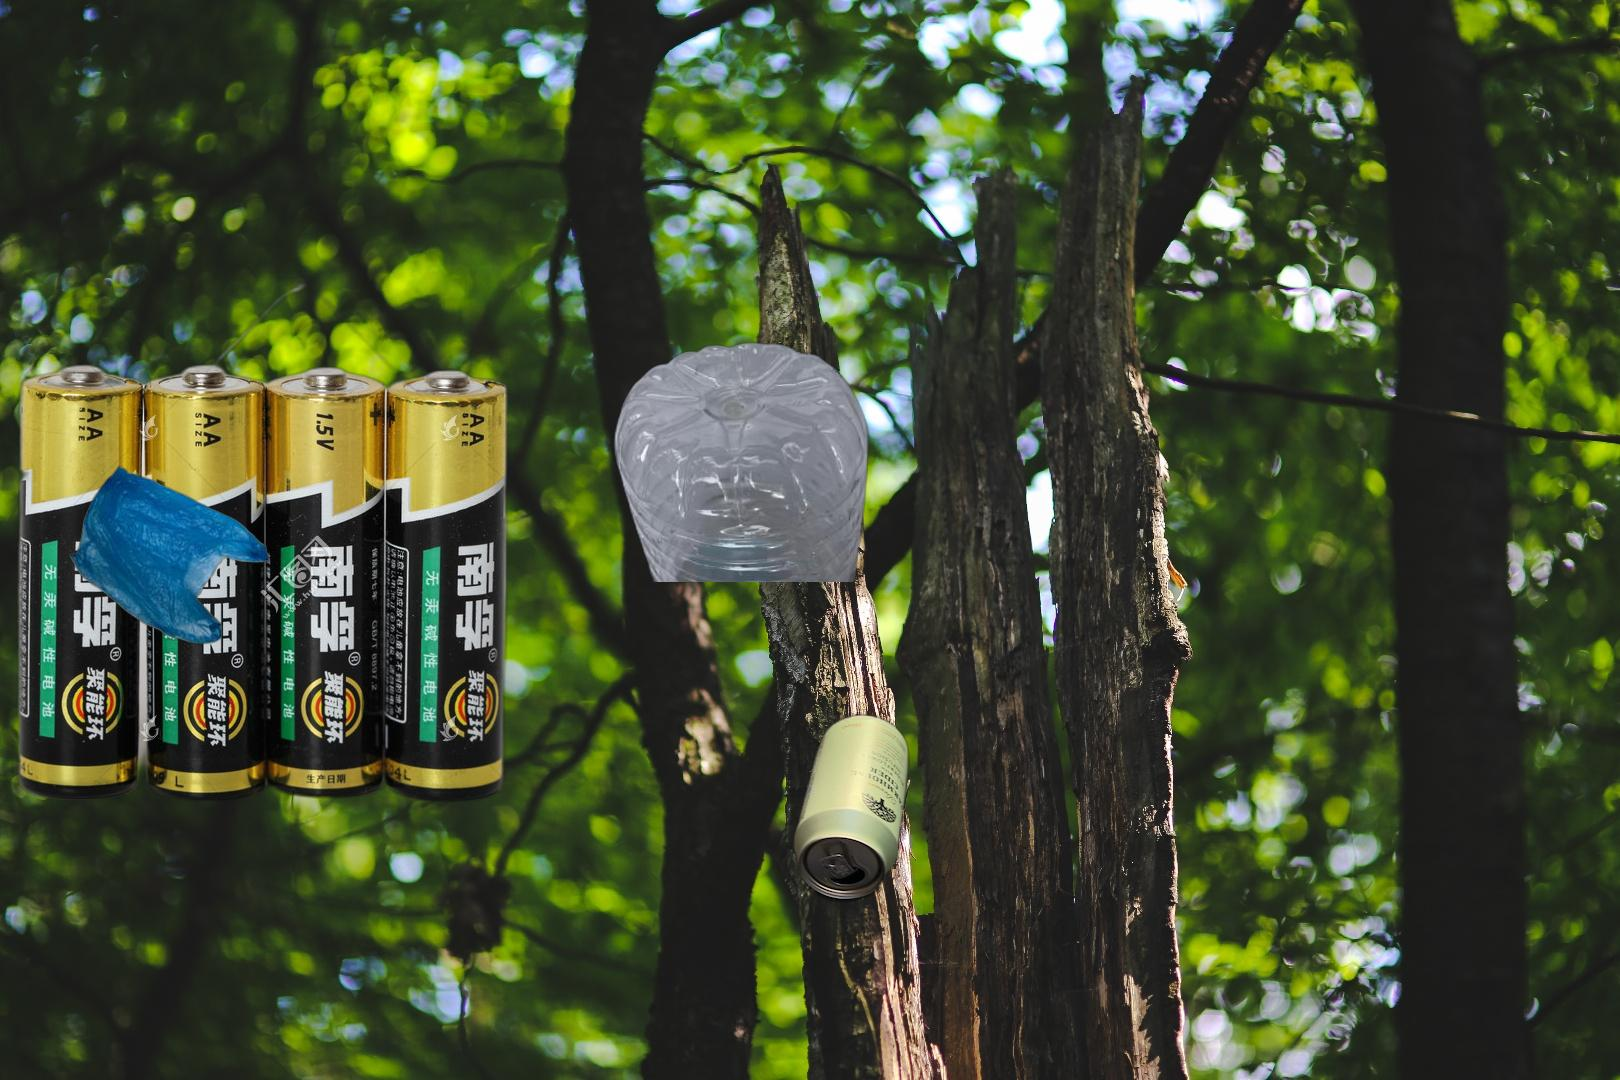battery: (11, 277, 515, 806)
metal-cans: (535, 615, 912, 906)
plastic-bag: (67, 463, 272, 647)
plastic-bottles: (610, 337, 873, 582)
